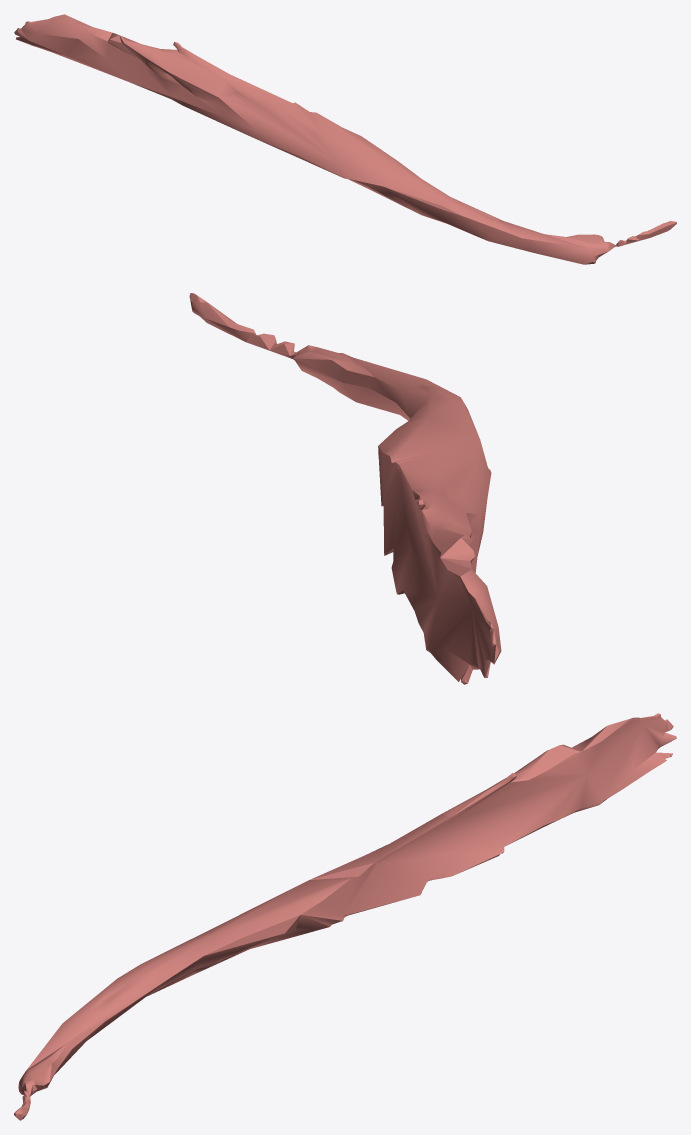
File: fma37742_fj1388m.glb
3 renders of one model, top to bottom at view 1: azimuth 30°, elevation 25°; view 2: azimuth 150°, elevation 25°; view 3: azimuth 270°, elevation 25°, orthographic. The views are drawn at different scales.
Visible parts, largest first — view 1: FMA37742_FJ1388M; view 2: FMA37742_FJ1388M; view 3: FMA37742_FJ1388M.
Boxes of the visible parts, box(x1,y1,x2,y2) form: FMA37742_FJ1388M: box(14, 14, 676, 264); FMA37742_FJ1388M: box(189, 293, 501, 684); FMA37742_FJ1388M: box(14, 713, 676, 1120).
Size of the model in its own units: 0.0403 by 0.0141 by 0.044.
